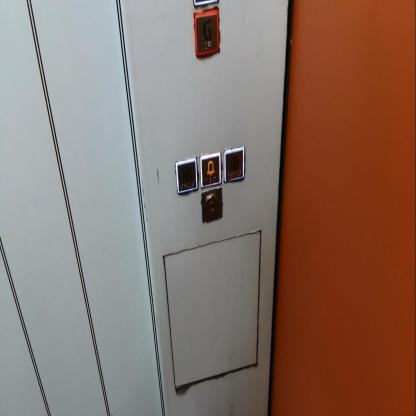G: (193, 6, 221, 61)
alarm: (200, 150, 221, 188)
bt_keyhole: (200, 189, 222, 223)
close: (174, 155, 198, 195)
open: (224, 146, 245, 184)
